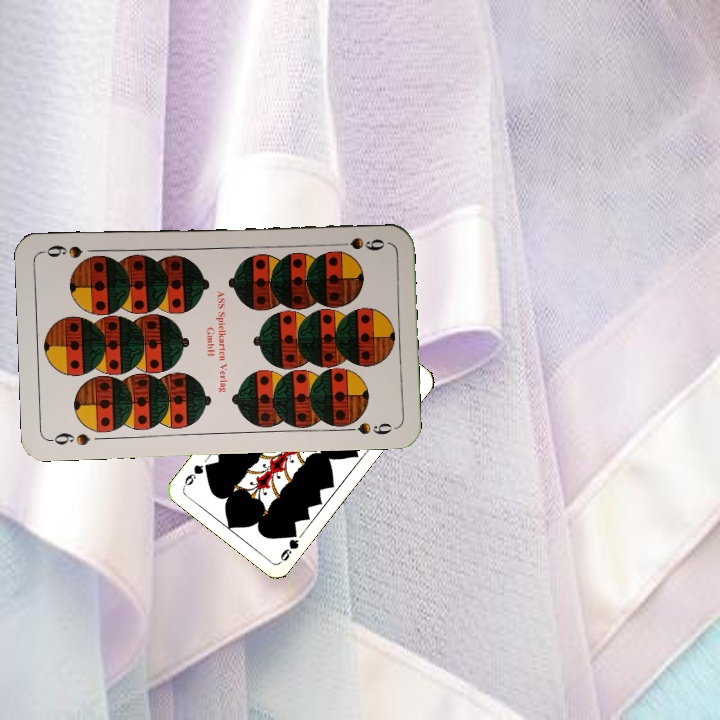G9: (276, 526, 301, 565)
S9: (329, 233, 387, 253), (46, 428, 93, 448)
